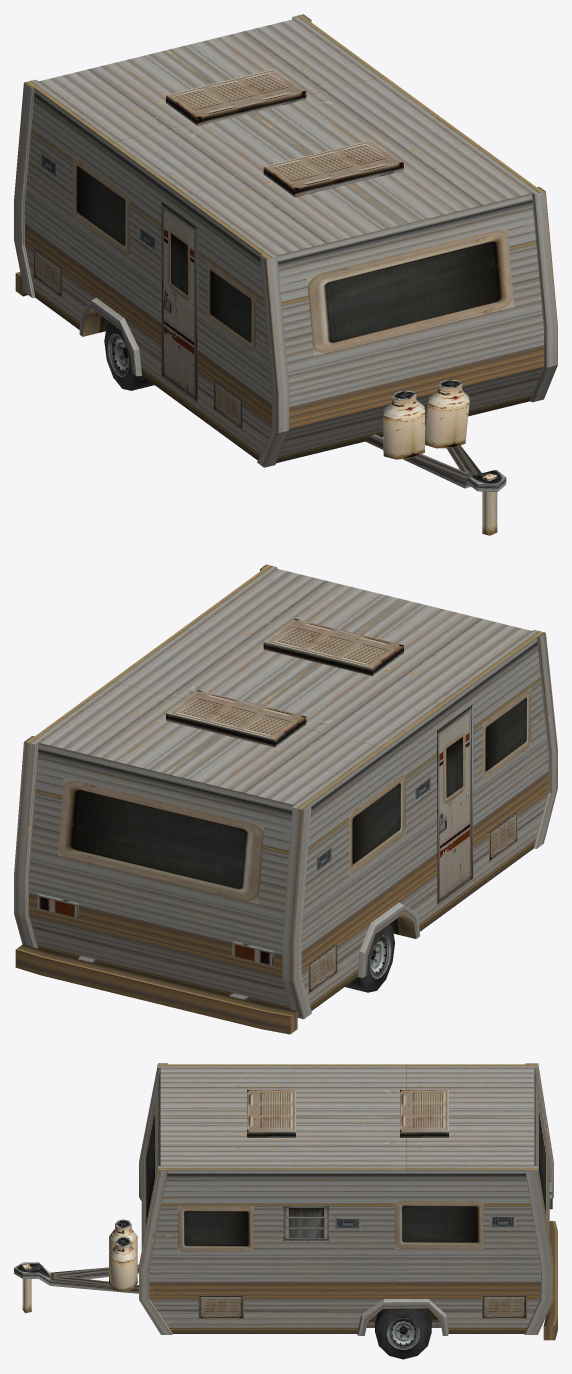
Rendered from rural_trailerh_2_rural_trailer_stuff_1_0_lev2.glb.
3 renders of one model, top to bottom at view 1: azimuth 30°, elevation 25°; view 2: azimuth 150°, elevation 25°; view 3: azimuth 270°, elevation 25°, orthographic. The views are drawn at different scales.
Parts seen in each view (by area): view 1: rural_trailerh_2_rural_trailer_stuff_1_0_lev2; view 2: rural_trailerh_2_rural_trailer_stuff_1_0_lev2; view 3: rural_trailerh_2_rural_trailer_stuff_1_0_lev2.
Boxes of the visible parts, x1=… form: rural_trailerh_2_rural_trailer_stuff_1_0_lev2: x1=14, y1=14, x2=557, y2=535; rural_trailerh_2_rural_trailer_stuff_1_0_lev2: x1=14, y1=564, x2=557, y2=1034; rural_trailerh_2_rural_trailer_stuff_1_0_lev2: x1=14, y1=1063, x2=557, y2=1359.
Size of the model in its own units: 2.61 by 2.24 by 5.52.
1 material, 1 textured.
